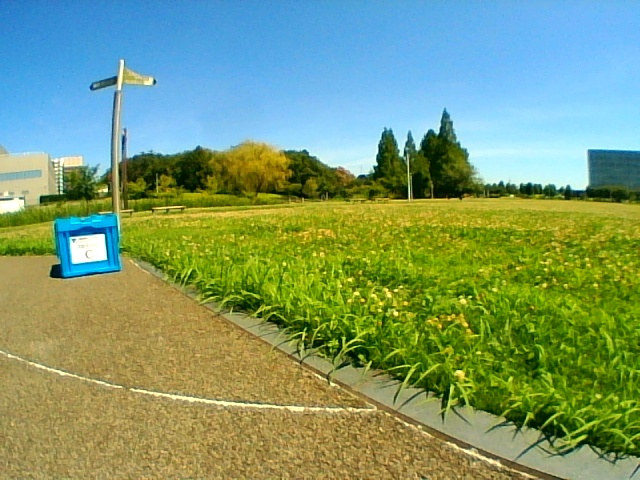blue_box: (60, 217, 117, 271)
tag: (74, 237, 103, 260)
